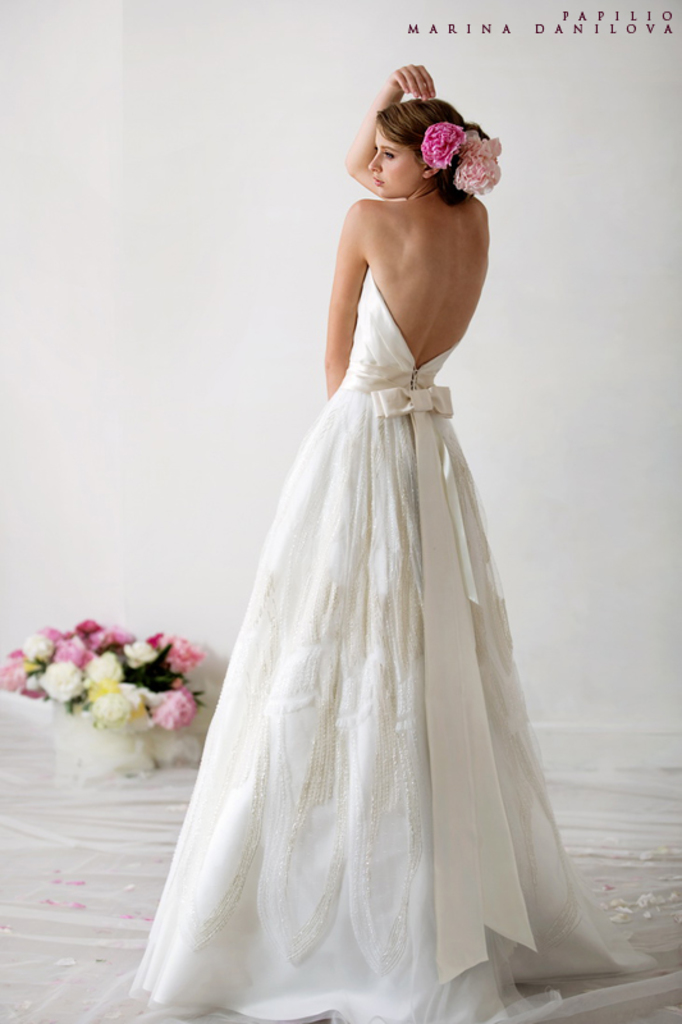face: (367, 117, 419, 200)
